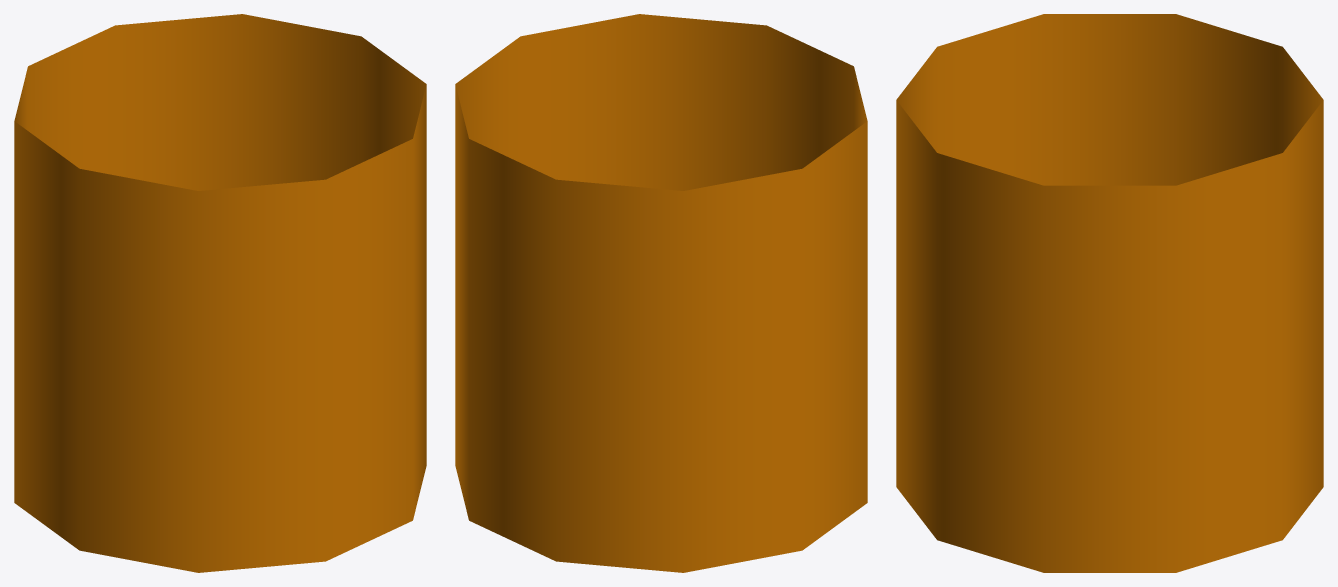
Rendered from Smallight.fbx.
The picture shows the model from 3 angles, left to right: view 1: azimuth 30°, elevation 25°; view 2: azimuth 150°, elevation 25°; view 3: azimuth 270°, elevation 25°; orthographic projection.
Parts seen in each view (by area): view 1: SmolLight; view 2: SmolLight; view 3: SmolLight.
Boxes of the visible parts, x1,y1,x2,y2 form: SmolLight: [14, 14, 426, 572]; SmolLight: [455, 14, 867, 572]; SmolLight: [896, 14, 1323, 572].
Size of the model in its own units: 11.41 by 12 by 12.
